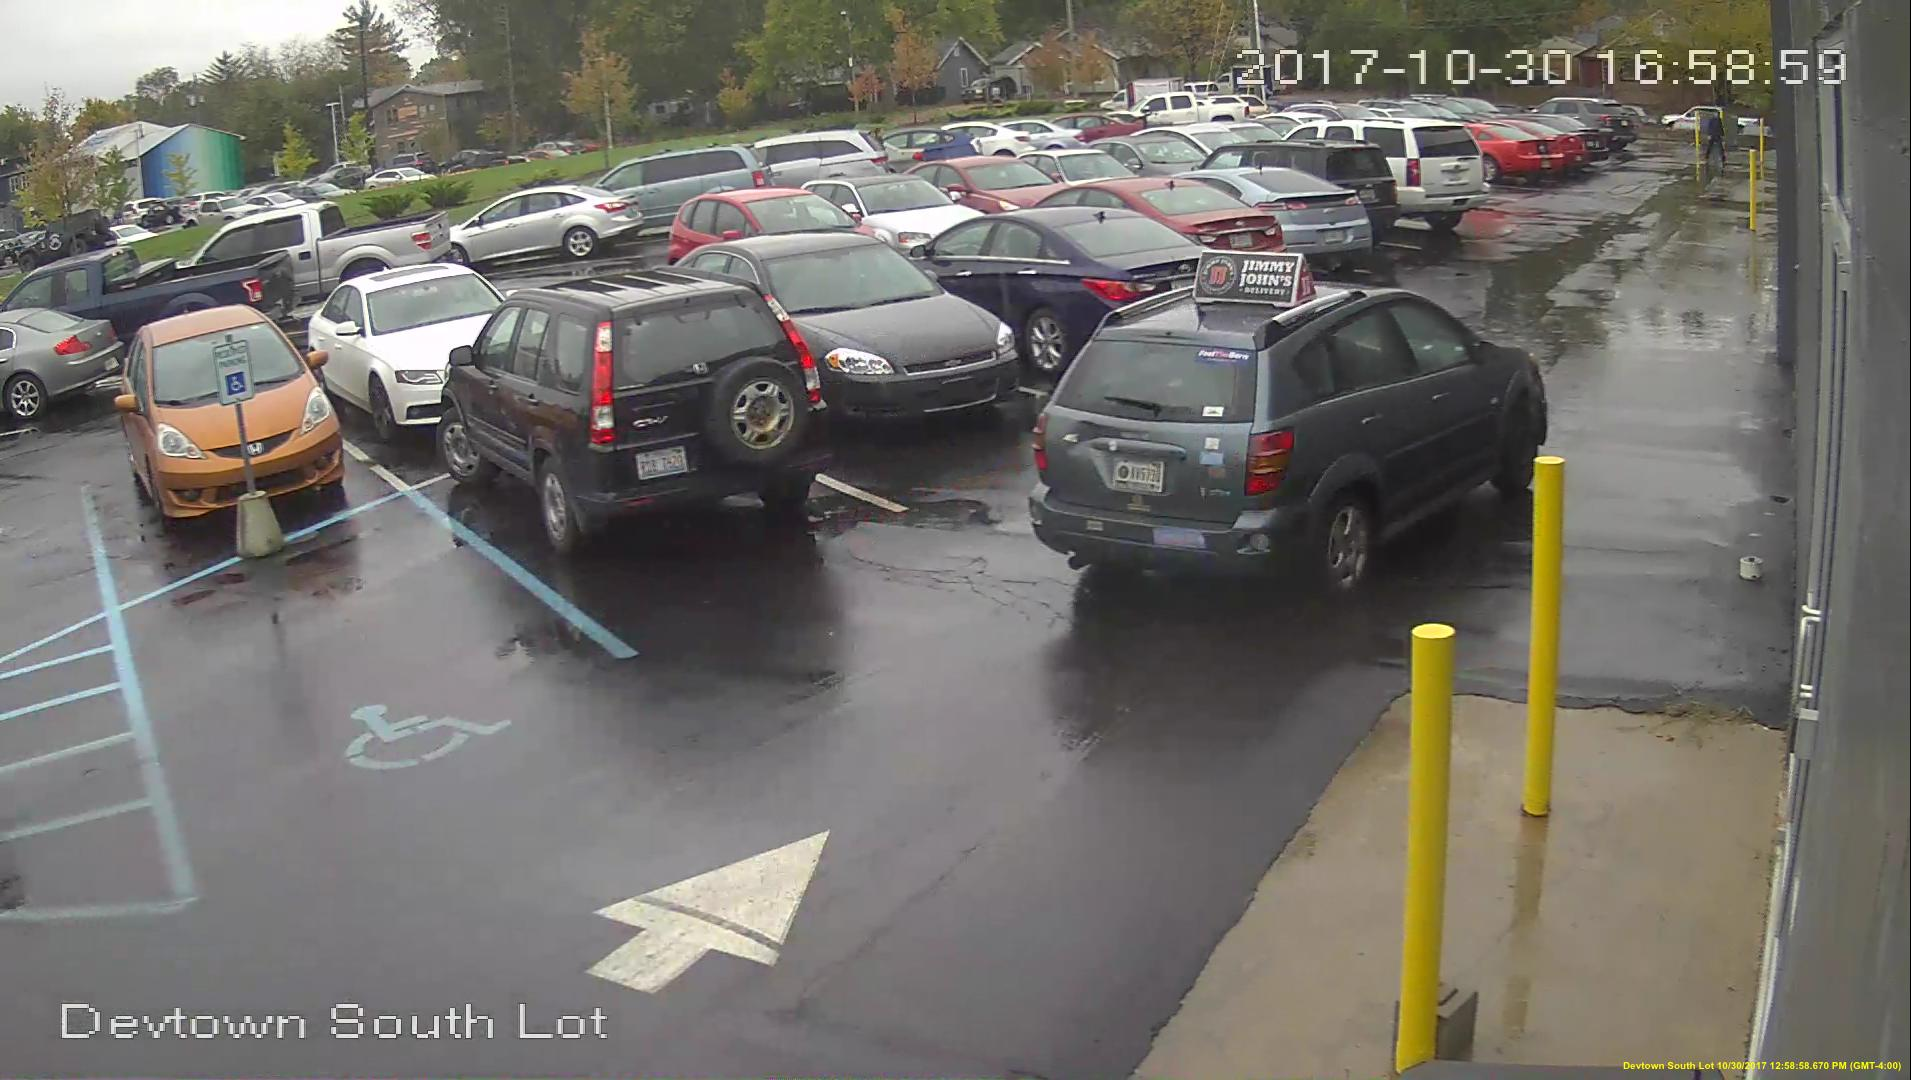jimmy_johns: (1189, 249, 1315, 310)
